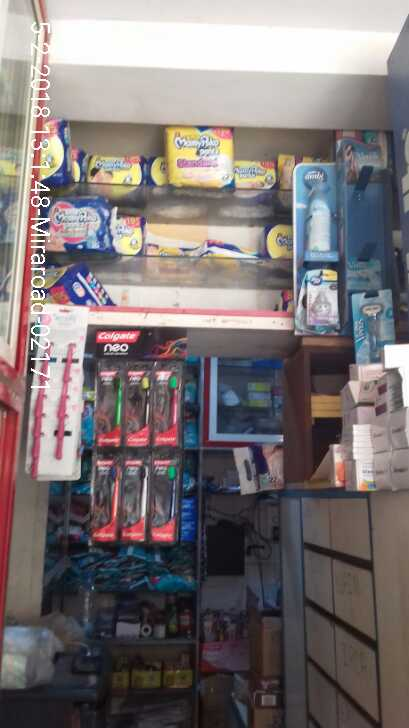home: (294, 166, 336, 252), (299, 268, 336, 330)
venus: (351, 293, 389, 361)
